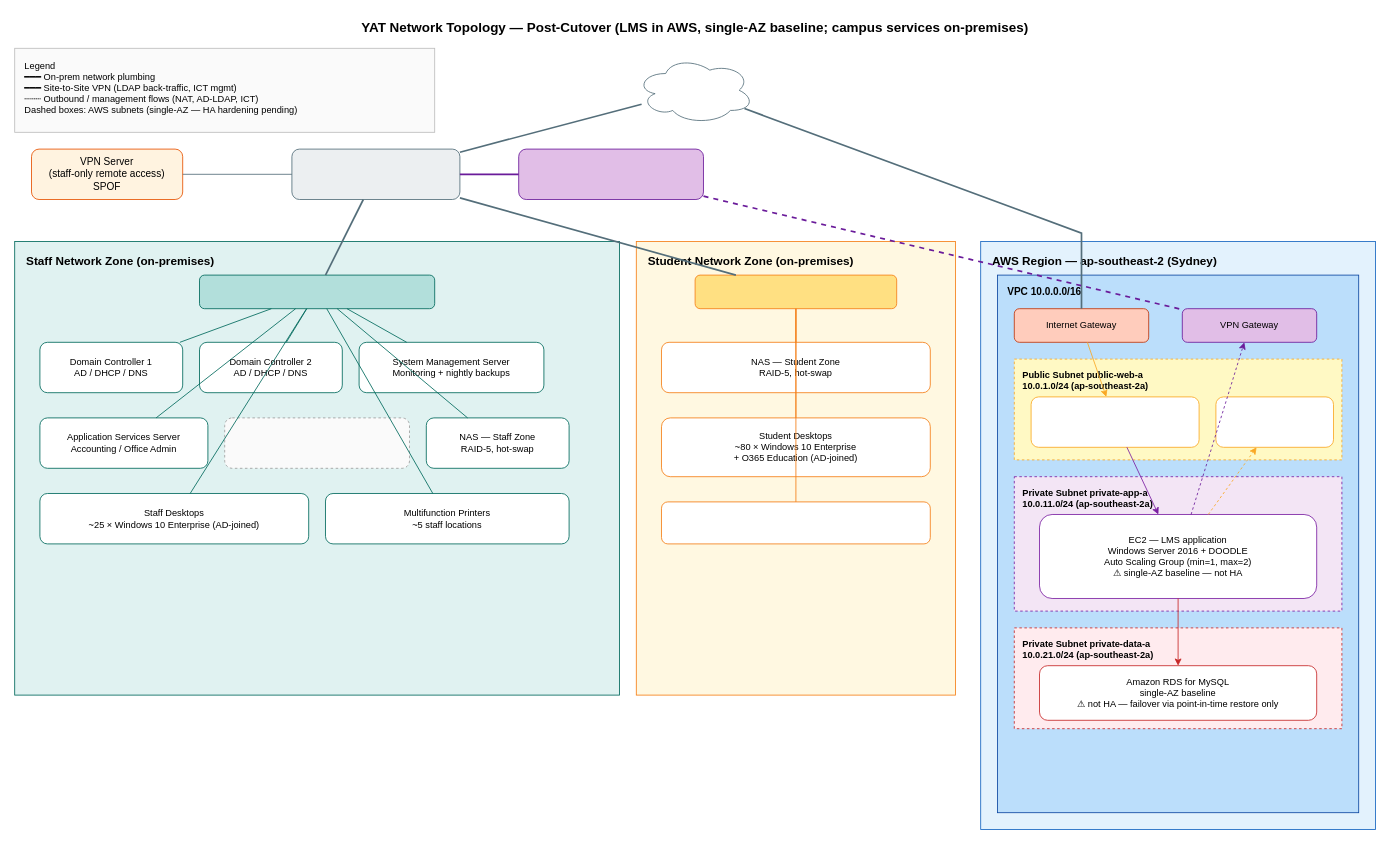
This 1390x844 diagram has some shape labels left out. Each missing label, with the centre of its shape:
(LMS Server decommissioned at cutover — migrated to AWS): point 317,442
Application Load Balancer HTTPS:443: point 1114,421
Classroom Printers ~15 — one per classroom: point 795,522
Edge Firewall / Router (redundant — no SPOF): point 375,174
Internet: point 694,90
NAT Gateway: point 1274,421
Site-to-Site VPN Campus ↔ AWS LDAP back-traffic + ICT mgmt: point 611,174
Staff Zone Switch: point 317,291
Student Zone Switch: point 795,291
